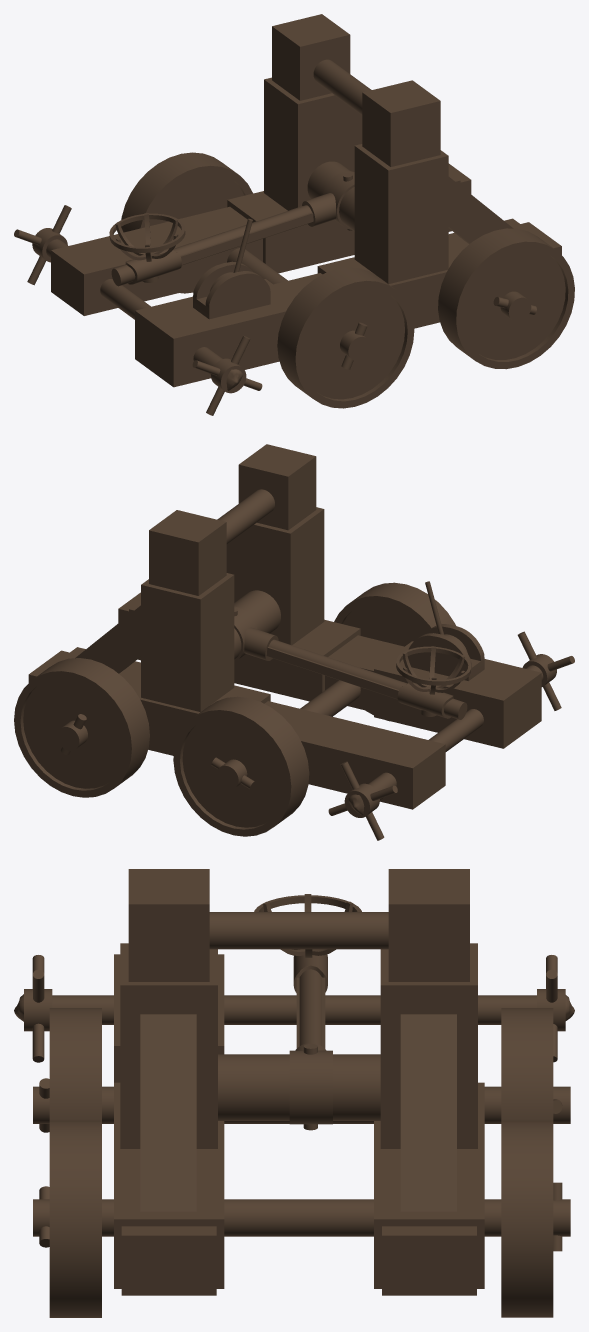
The model's file is catapult.FBX.
The picture shows the model from 3 angles, top to bottom: view 1: azimuth 30°, elevation 25°; view 2: azimuth 150°, elevation 25°; view 3: azimuth 270°, elevation 25°; orthographic projection. The views are drawn at different scales.
Parts seen in each view (by area): view 1: catapult; view 2: catapult; view 3: catapult.
Boxes of the visible parts, <box> form: catapult: <box>14,14,574,415</box>; catapult: <box>14,444,574,840</box>; catapult: <box>14,869,574,1317</box>.
Bounding box in the file's own units: 457 × 284 × 389.
